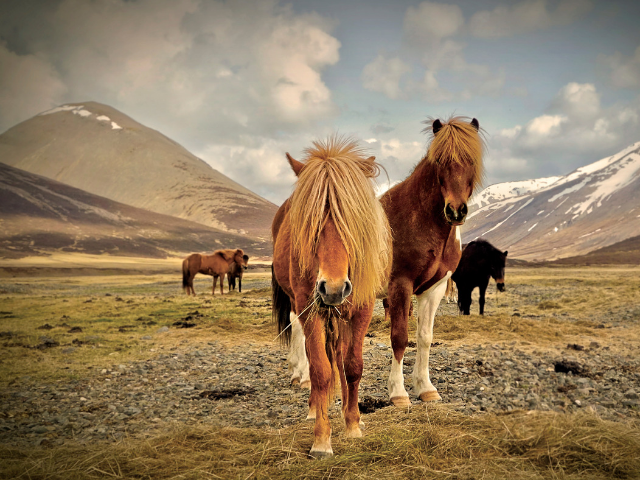equine: (359, 100, 515, 427), (255, 142, 402, 473), (442, 227, 530, 318), (166, 240, 250, 303), (230, 250, 251, 289)
